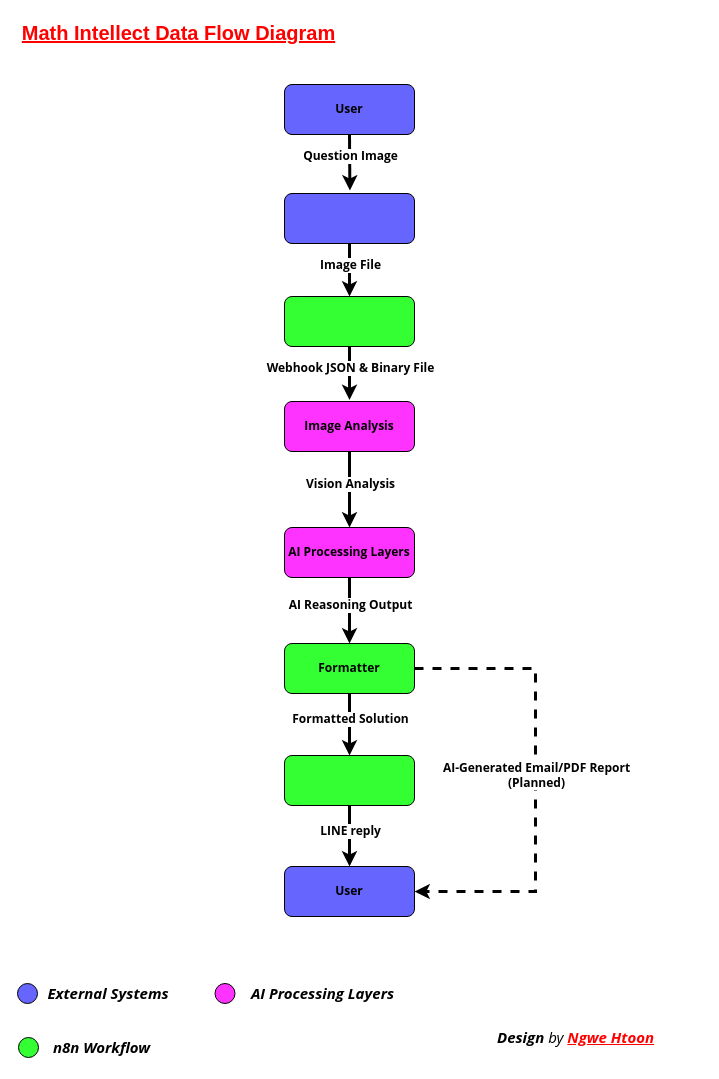
Some shapes in this 719 by 1079 pixel diagram are drawn without their labels. Each missing label, with the centre of its shape:
LIINE Reply: point 349,780
LINE Official Account: point 349,218
Self-Hosted n8n Automation Engine: point 349,321
